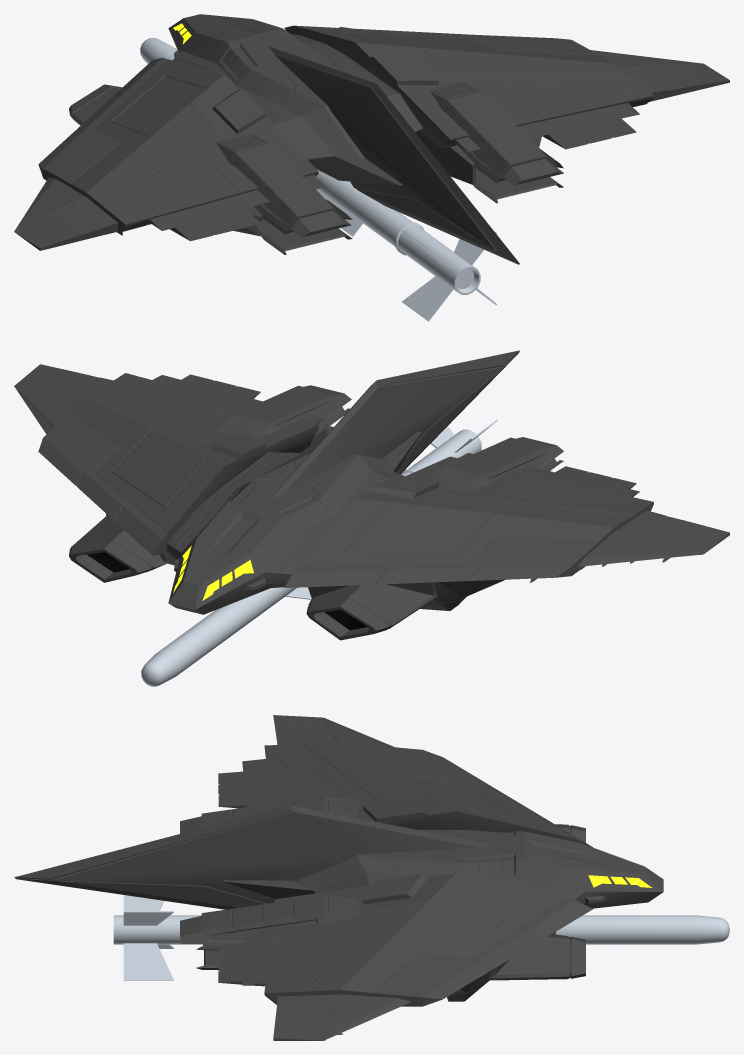
3 views of the same model, one above another, from view 1: azimuth 30°, elevation 25°; view 2: azimuth 150°, elevation 25°; view 3: azimuth 270°, elevation 25° (orthographic). The views are drawn at different scales.
Visible parts, largest first — view 1: Object_2, Object_5; view 2: Object_2, Object_5, Object_4, Object_6; view 3: Object_2, Object_5.
Boxes of the visible parts, <box> form: Object_2: <box>14,14,729,264</box>; Object_5: <box>140,38,496,321</box>; Object_2: <box>14,350,729,640</box>; Object_5: <box>141,419,497,686</box>; Object_4: <box>87,552,367,630</box>; Object_6: <box>173,546,253,600</box>; Object_2: <box>14,715,663,1040</box>; Object_5: <box>113,895,729,980</box>.
Bounding box in the file's own units: 5.1 × 1.18 × 4.78.
